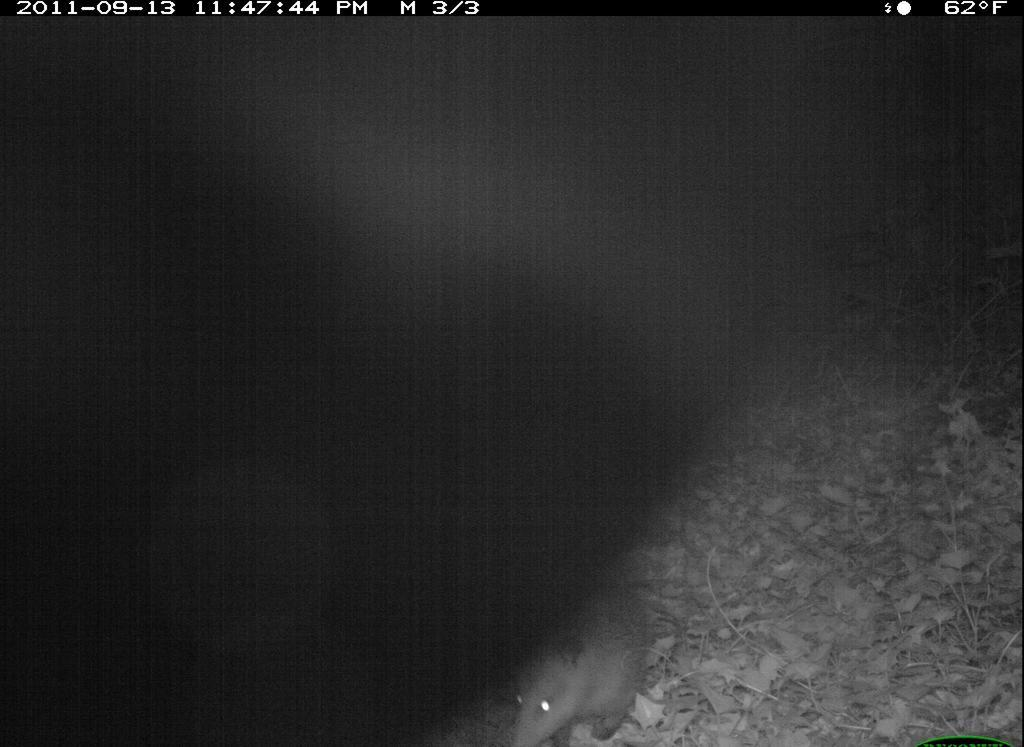opossum: (493, 551, 680, 745)
